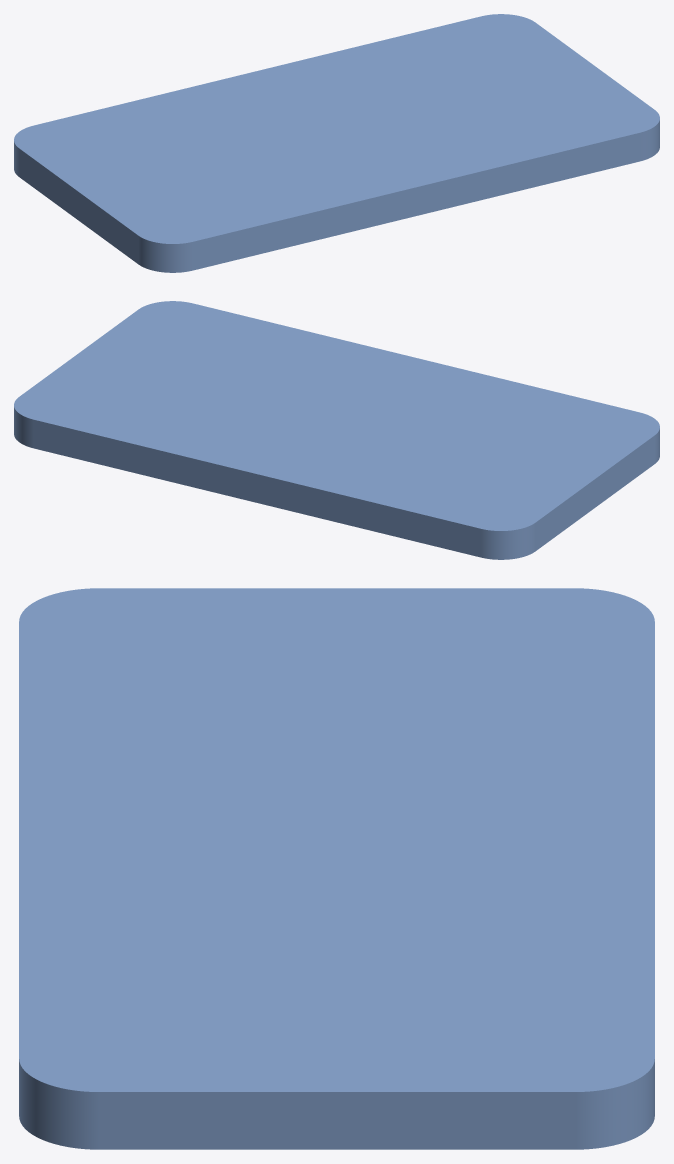
File: step_01.glb
The picture shows the model from 3 angles, top to bottom: view 1: azimuth 30°, elevation 25°; view 2: azimuth 150°, elevation 25°; view 3: azimuth 270°, elevation 25°; orthographic projection. The views are drawn at different scales.
Parts seen in each view (by area): view 1: part__base; view 2: part__base; view 3: part__base.
Boxes of the visible parts, bbox=[...] form: part__base: bbox=[14, 14, 659, 272]; part__base: bbox=[14, 301, 659, 559]; part__base: bbox=[19, 588, 654, 1149].
Size of the model in its own units: 75 by 4 by 40.
